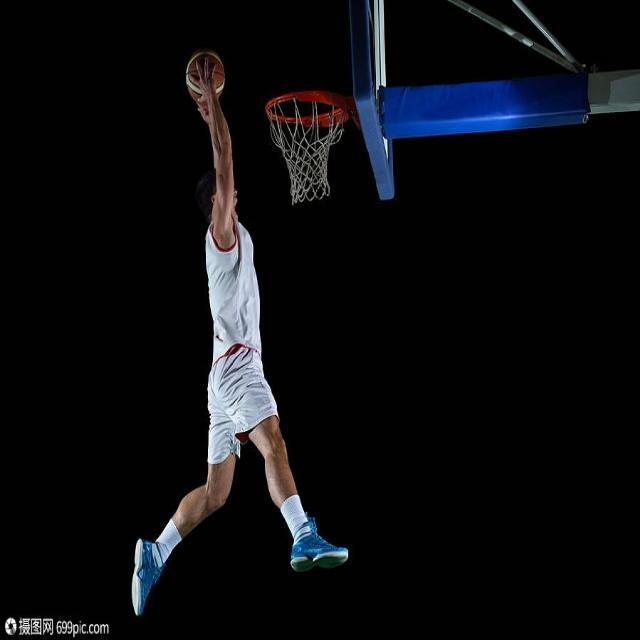rim: (185, 56, 224, 102)
